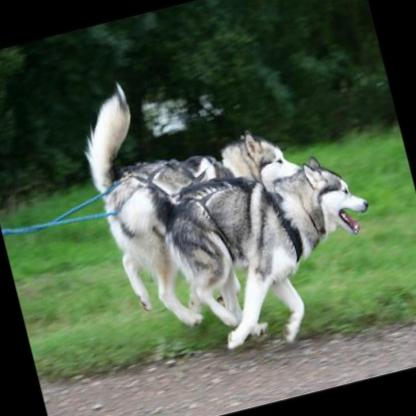malamute: (69, 45, 329, 337), (106, 130, 395, 380)
